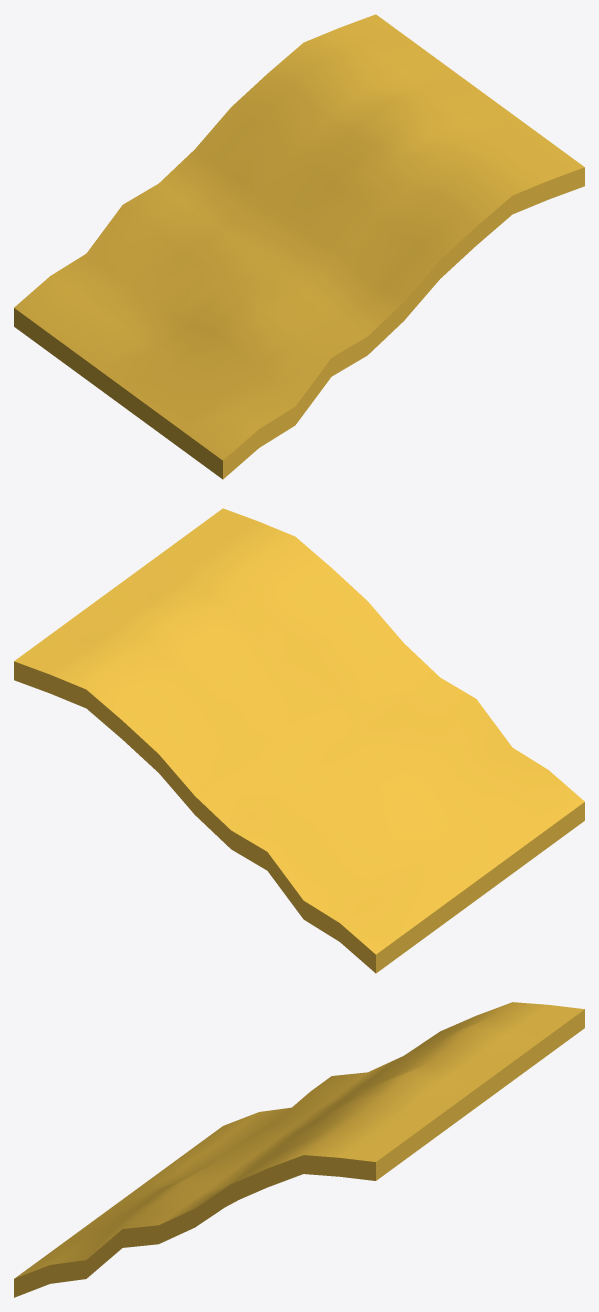
The model's file is Steil - Unten - Hügel b - b.fbx.
3 views of the same model, one above another, from view 1: azimuth 30°, elevation 25°; view 2: azimuth 150°, elevation 25°; view 3: azimuth 330°, elevation 25° (orthographic).
Visible parts, largest first — view 1: Steil - Unten - Hügle b - b; view 2: Steil - Unten - Hügle b - b; view 3: Steil - Unten - Hügle b - b.
Boxes of the visible parts, x1,y1,x2,y2 form: Steil - Unten - Hügle b - b: [14, 14, 584, 479]; Steil - Unten - Hügle b - b: [14, 508, 584, 973]; Steil - Unten - Hügle b - b: [14, 1002, 584, 1297].
Size of the model in its own units: 394 by 233 by 394.
